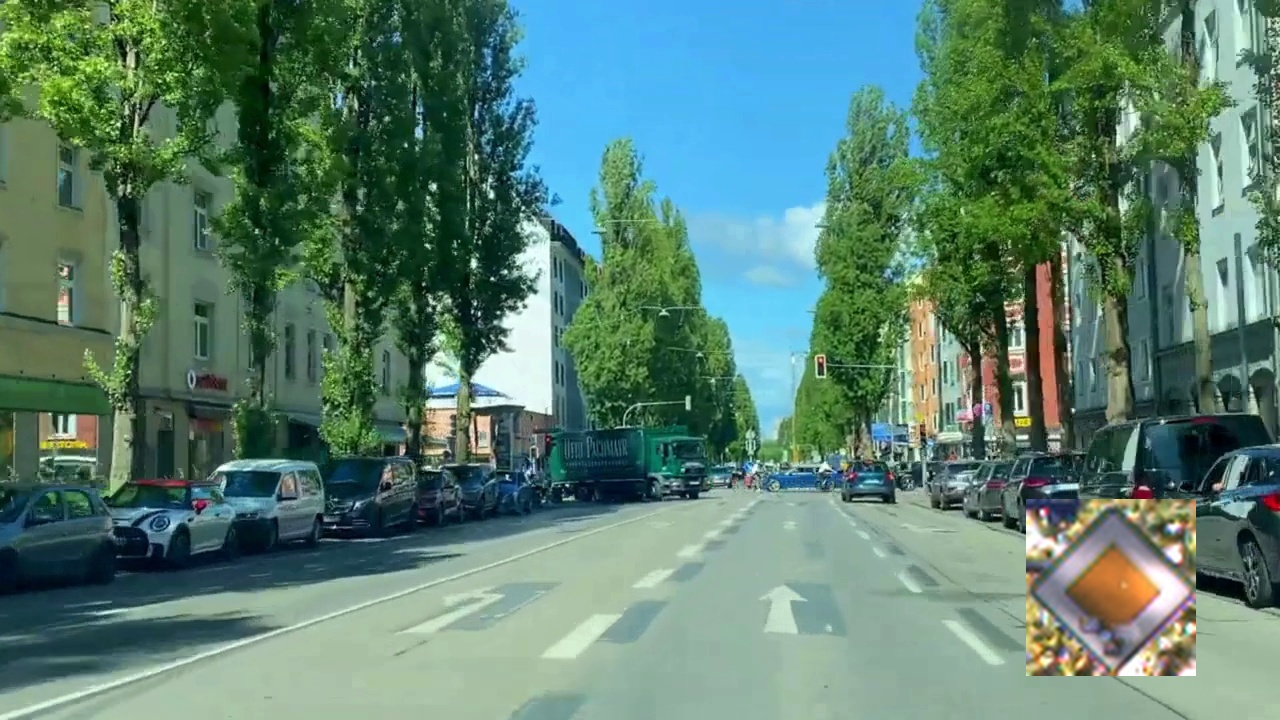Priority road: (1026, 499, 1196, 676)
